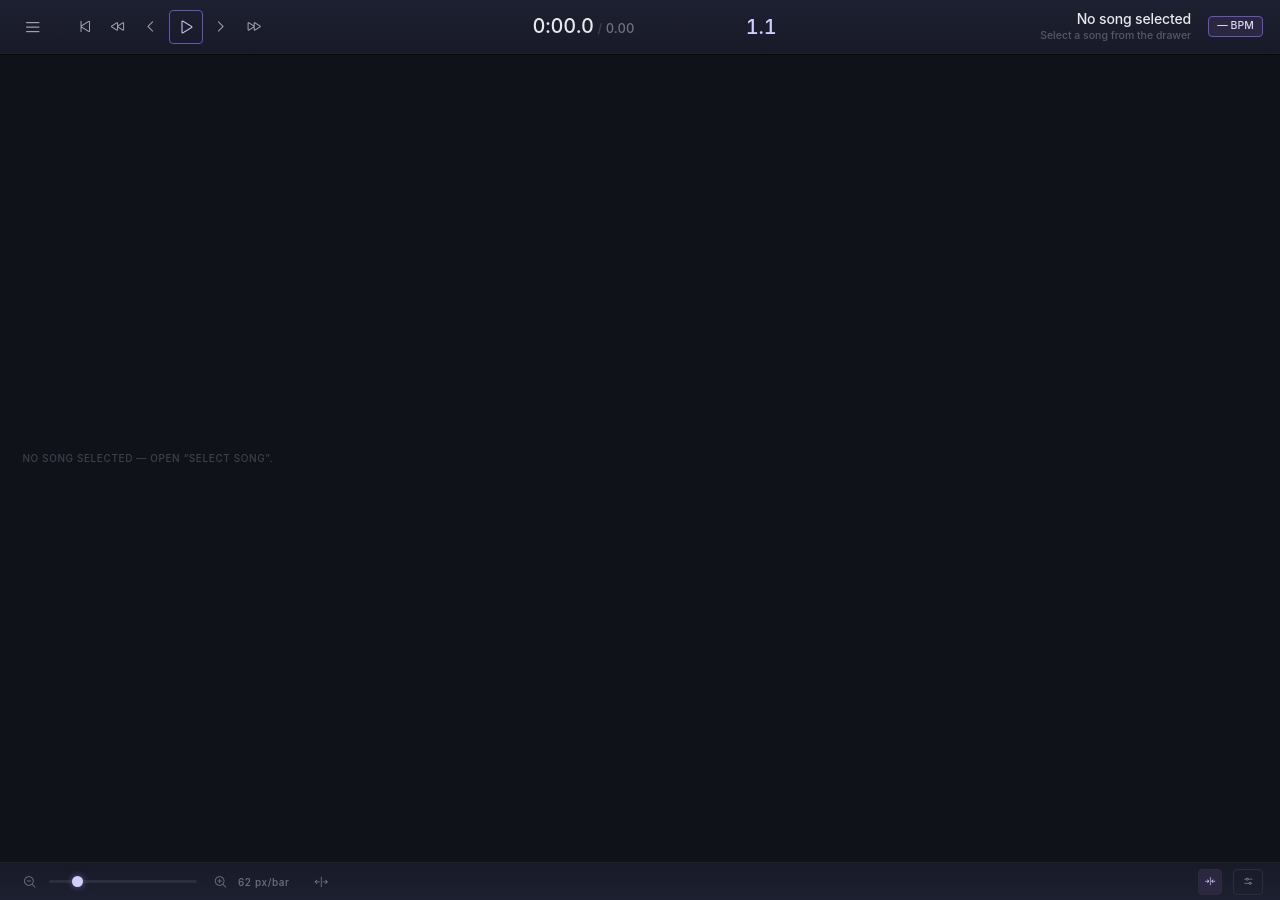
App shell › has exactly five drawer entries
Click the button named "Toggle menu" at (32, 26), box [17, 12, 47, 42]
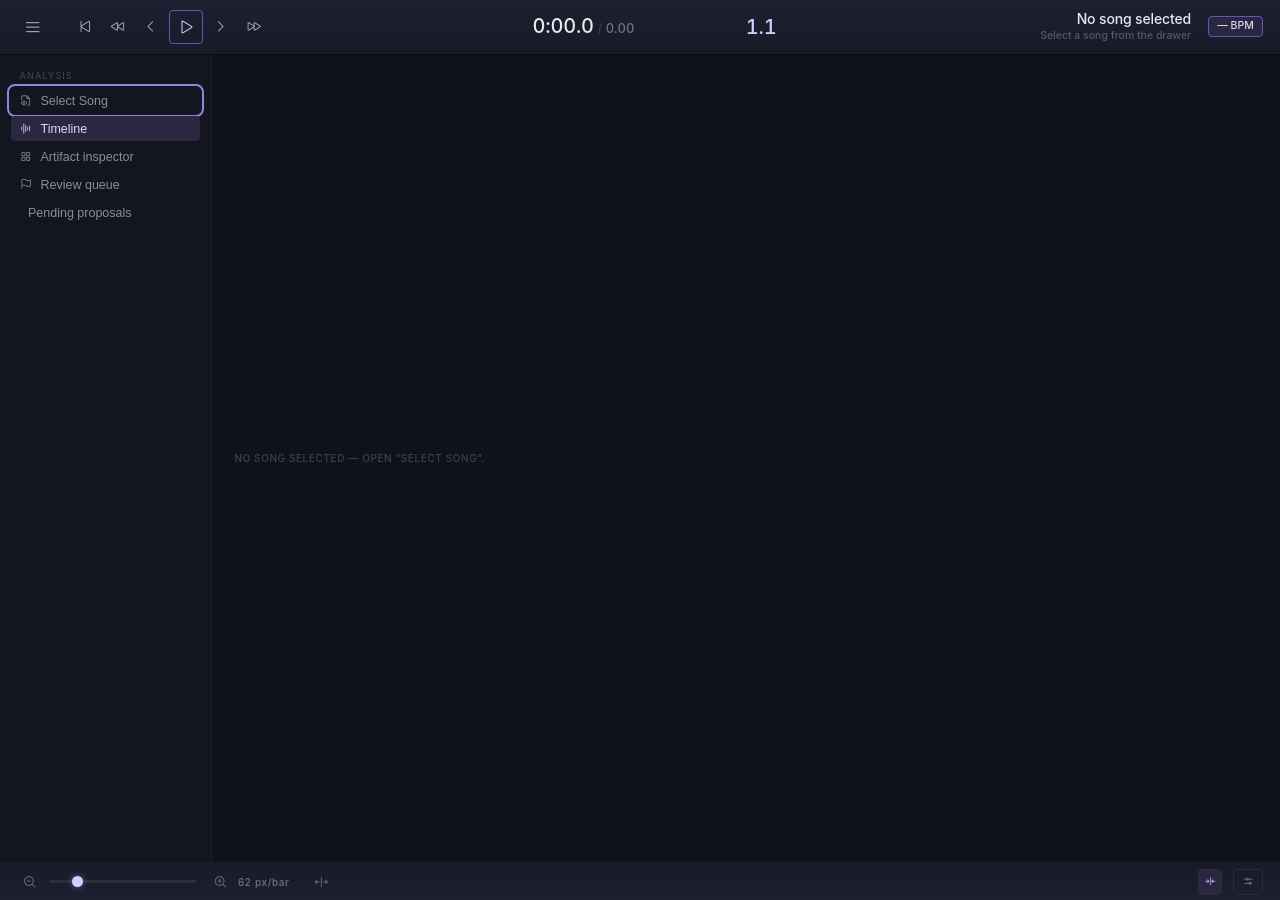
Now the number of buttons with class "dr-item" is 5, box [11, 88, 200, 113]; [11, 116, 200, 141]; [11, 144, 200, 169]; [11, 172, 200, 197]; [11, 200, 200, 225]
